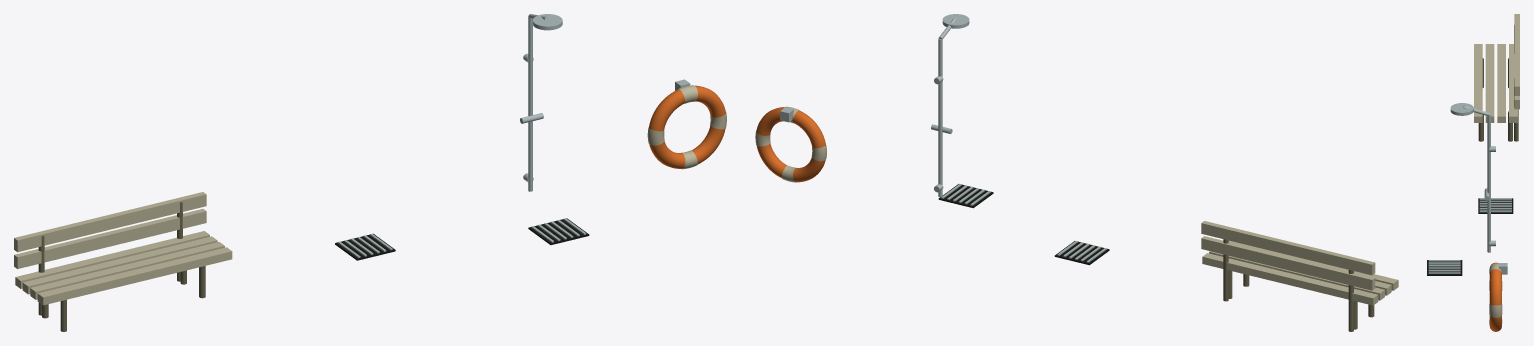
The model's file is quiet-wing-prop-kit.glb.
The picture shows the model from 3 angles, left to right: view 1: azimuth 30°, elevation 25°; view 2: azimuth 150°, elevation 25°; view 3: azimuth 270°, elevation 25°; orthographic projection. The views are drawn at different scales.
Visible parts, largest first — view 1: Ceramic architectural part 006, Ceramic architectural part 005, Ceramic architectural part 001 (×3), Ceramic architectural part 004, Wall-mounted rescue ring, Ceramic architectural part 002, Ceramic architectural part 003, Brushed stainless fitting; view 2: Ceramic architectural part 001 (×3), Ceramic architectural part 006, Ceramic architectural part 005, Wall-mounted rescue ring, Brushed stainless fitting, Ceramic architectural part 002, Ceramic architectural part 004; view 3: Ceramic architectural part 001 (×4), Ceramic architectural part 003 (×3), Ceramic architectural part 004 (×2), Ceramic architectural part 002, Wall-mounted rescue ring, Brushed stainless fitting (×2), Ceramic architectural part 006 (×2), Rain shower head, Rescue-ring reflective band, Ceramic architectural part 005 (×2), Metal tubular support 006, Metal tubular support 005 (+2 smaller).
Boxes of the visible parts, x1,y1,x2,y2 form: Ceramic architectural part 006: [14, 192, 206, 252]; Ceramic architectural part 005: [14, 209, 206, 268]; Ceramic architectural part 001 (×3): [15, 218, 589, 288]; Ceramic architectural part 004: [37, 247, 232, 305]; Wall-mounted rescue ring: [649, 85, 725, 168]; Ceramic architectural part 002: [22, 236, 217, 294]; Ceramic architectural part 003: [30, 242, 224, 299]; Brushed stainless fitting: [528, 16, 532, 191]; Ceramic architectural part 001 (×3): [938, 184, 1378, 305]; Ceramic architectural part 006: [1201, 221, 1375, 275]; Ceramic architectural part 005: [1201, 236, 1375, 290]; Wall-mounted rescue ring: [756, 107, 825, 182]; Brushed stainless fitting: [938, 38, 942, 197]; Ceramic architectural part 002: [1209, 251, 1384, 300]; Ceramic architectural part 004: [1228, 240, 1398, 290]; Ceramic architectural part 001 (×4): [1427, 44, 1517, 275]; Ceramic architectural part 003 (×3): [1428, 44, 1511, 264]; Ceramic architectural part 004 (×2): [1428, 44, 1482, 266]; Ceramic architectural part 002: [1497, 44, 1505, 122]; Wall-mounted rescue ring: [1489, 262, 1501, 331]; Brushed stainless fitting (×2): [1463, 105, 1490, 252]; Ceramic architectural part 006 (×2): [1428, 14, 1519, 271]; Rain shower head: [1450, 103, 1473, 115]; Rescue-ring reflective band: [1489, 304, 1502, 317]; Ceramic architectural part 005 (×2): [1479, 96, 1519, 207]; Metal tubular support 006: [1514, 78, 1518, 141]; Metal tubular support 005: [1478, 115, 1483, 141].
Size of the model in its own units: 8.65 by 2.45 by 1.27.
